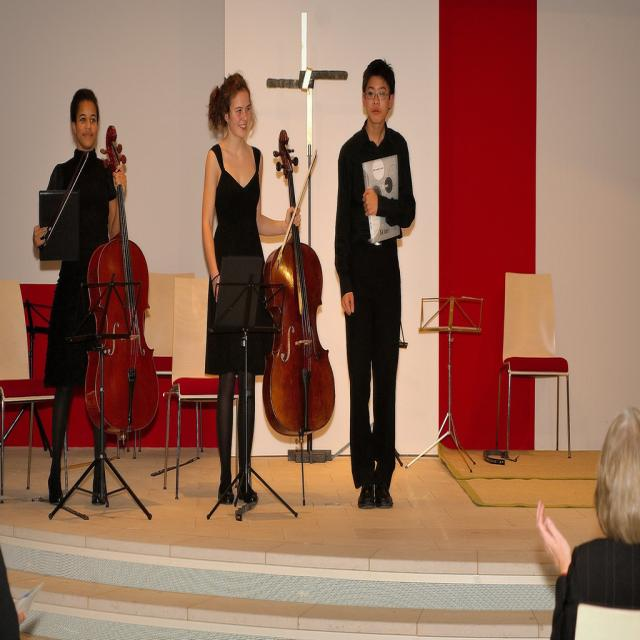cello: (86, 120, 162, 442), (259, 125, 337, 436)
